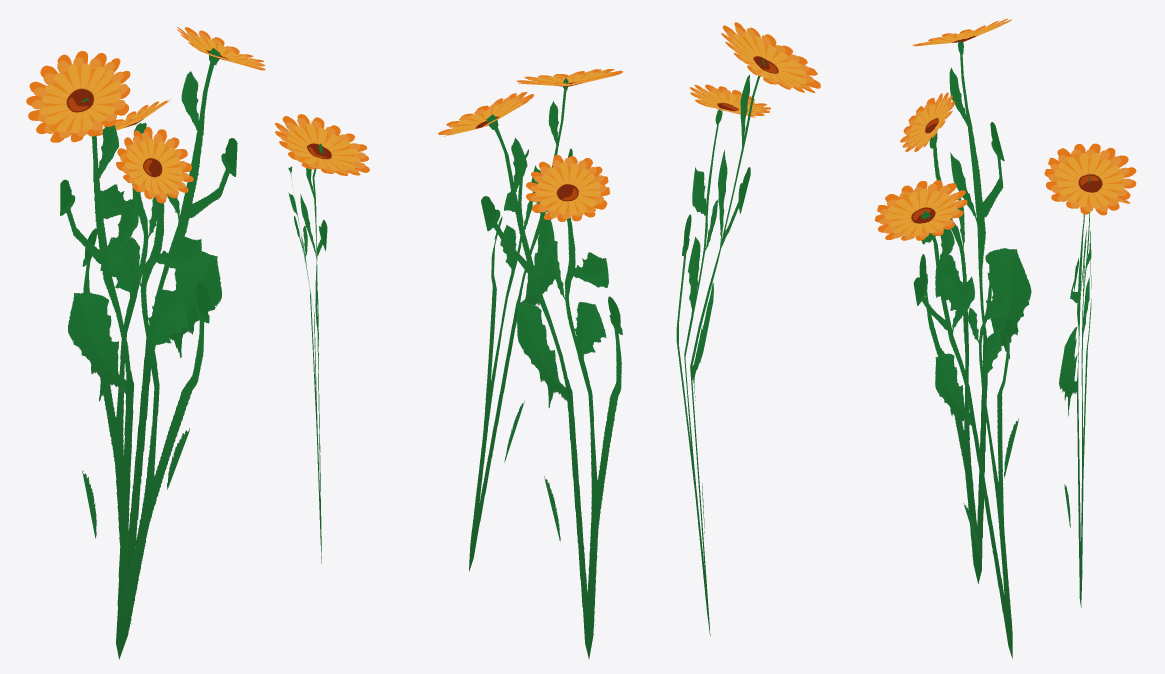
The model's file is PT_Marigold_02.fbx.
The picture shows the model from 3 angles, left to right: view 1: azimuth 30°, elevation 25°; view 2: azimuth 150°, elevation 25°; view 3: azimuth 270°, elevation 25°; orthographic projection. The views are drawn at different scales.
Parts seen in each view (by area): view 1: PT_Marigold_02_LOD0; view 2: PT_Marigold_02_LOD0; view 3: PT_Marigold_02_LOD0.
Part boxes in pixels (x1,y1,x2,y2): PT_Marigold_02_LOD0: [26, 27, 369, 659]; PT_Marigold_02_LOD0: [438, 22, 820, 659]; PT_Marigold_02_LOD0: [874, 18, 1136, 658].
Size of what is drawn, in the model's own units: 40.34 by 71.61 by 32.43.
